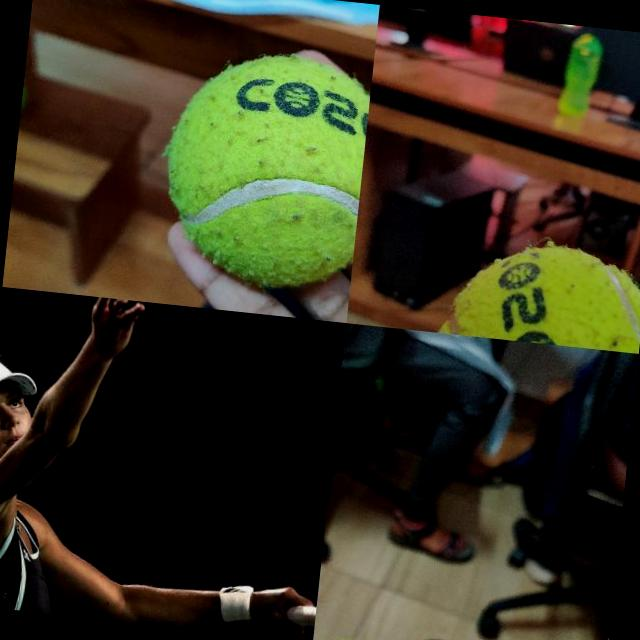Tennis Ball: (156, 45, 373, 294), (436, 232, 640, 352)
